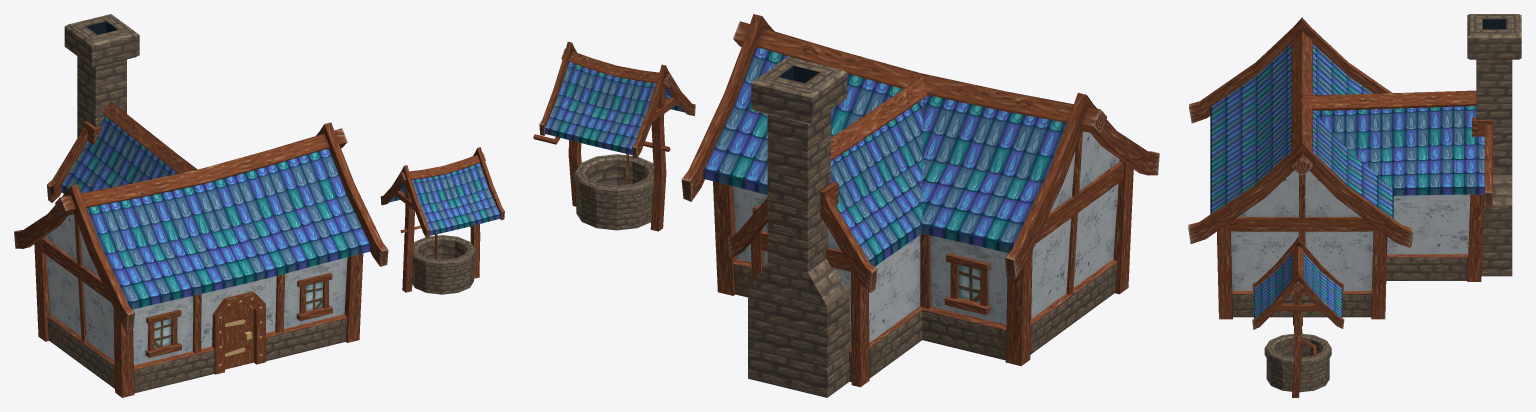
Rendered from house_06.fbx.
3 views of the same model, side by side, from view 1: azimuth 30°, elevation 25°; view 2: azimuth 150°, elevation 25°; view 3: azimuth 270°, elevation 25° (orthographic). The views are drawn at different scales.
Visible parts, largest first — view 1: house_06; view 2: house_06; view 3: house_06.
Part boxes in pixels (left/top/right/bottom): house_06: left=14, top=14, right=504, bottom=397; house_06: left=533, top=14, right=1159, bottom=397; house_06: left=1188, top=14, right=1521, bottom=397.
Bounding box in the file's own units: 643 × 341 × 428.
